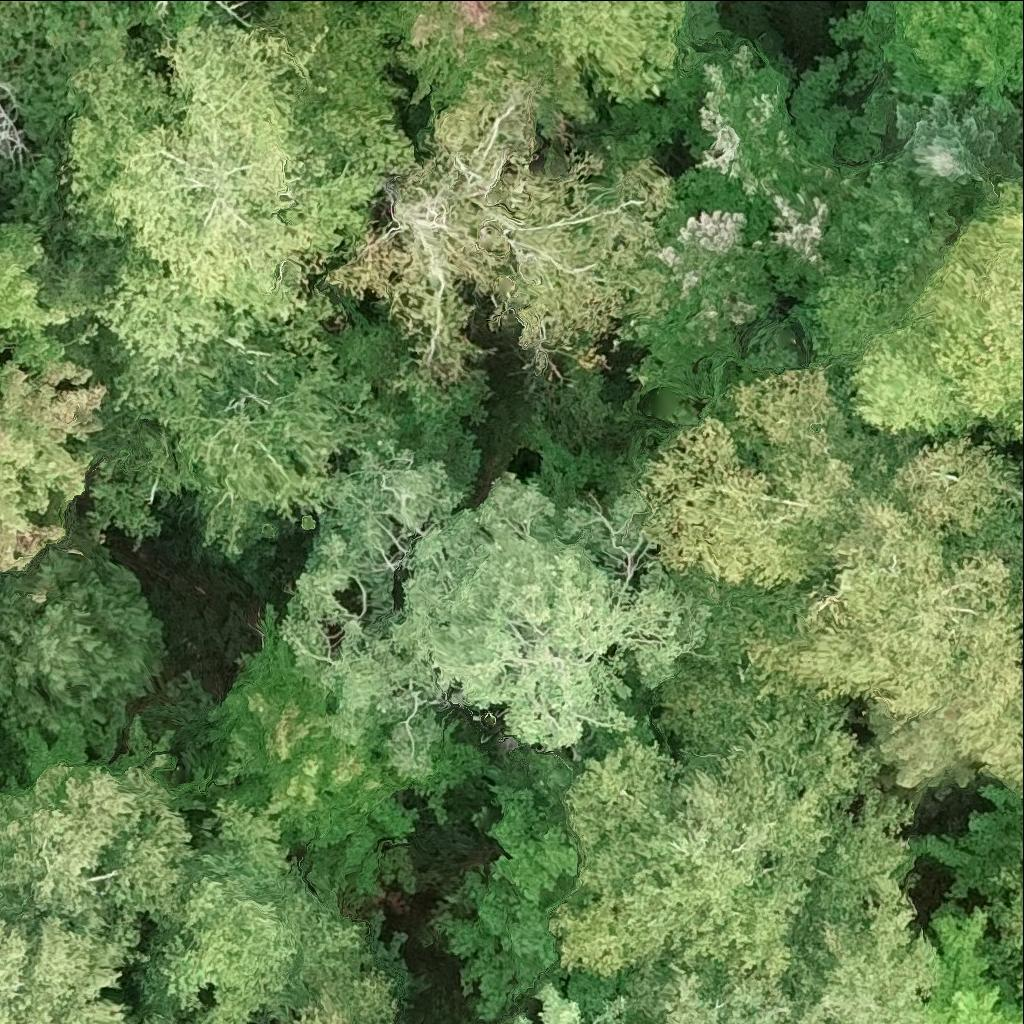crown: (282, 442, 711, 773), (68, 20, 423, 372), (328, 55, 678, 406), (545, 708, 905, 1023), (208, 603, 490, 891), (113, 289, 396, 559), (743, 492, 1023, 759), (635, 361, 890, 592), (140, 797, 377, 1023), (0, 223, 110, 578), (0, 755, 199, 950), (430, 779, 580, 1017), (0, 538, 162, 756), (654, 571, 832, 750), (370, 0, 599, 139), (621, 167, 779, 364), (817, 273, 987, 432), (914, 182, 1023, 419), (878, 435, 1023, 595), (819, 161, 958, 310), (508, 0, 685, 105), (0, 901, 150, 1023), (789, 907, 941, 1023), (695, 46, 811, 198), (880, 0, 1023, 119), (888, 96, 1023, 217), (751, 148, 846, 294), (924, 908, 1023, 1023), (651, 959, 786, 1023), (283, 963, 395, 1023), (535, 986, 588, 1023), (983, 751, 1023, 800), (593, 998, 630, 1023), (1012, 678, 1023, 734), (1012, 575, 1023, 612), (1016, 402, 1023, 436), (513, 1015, 536, 1023)
